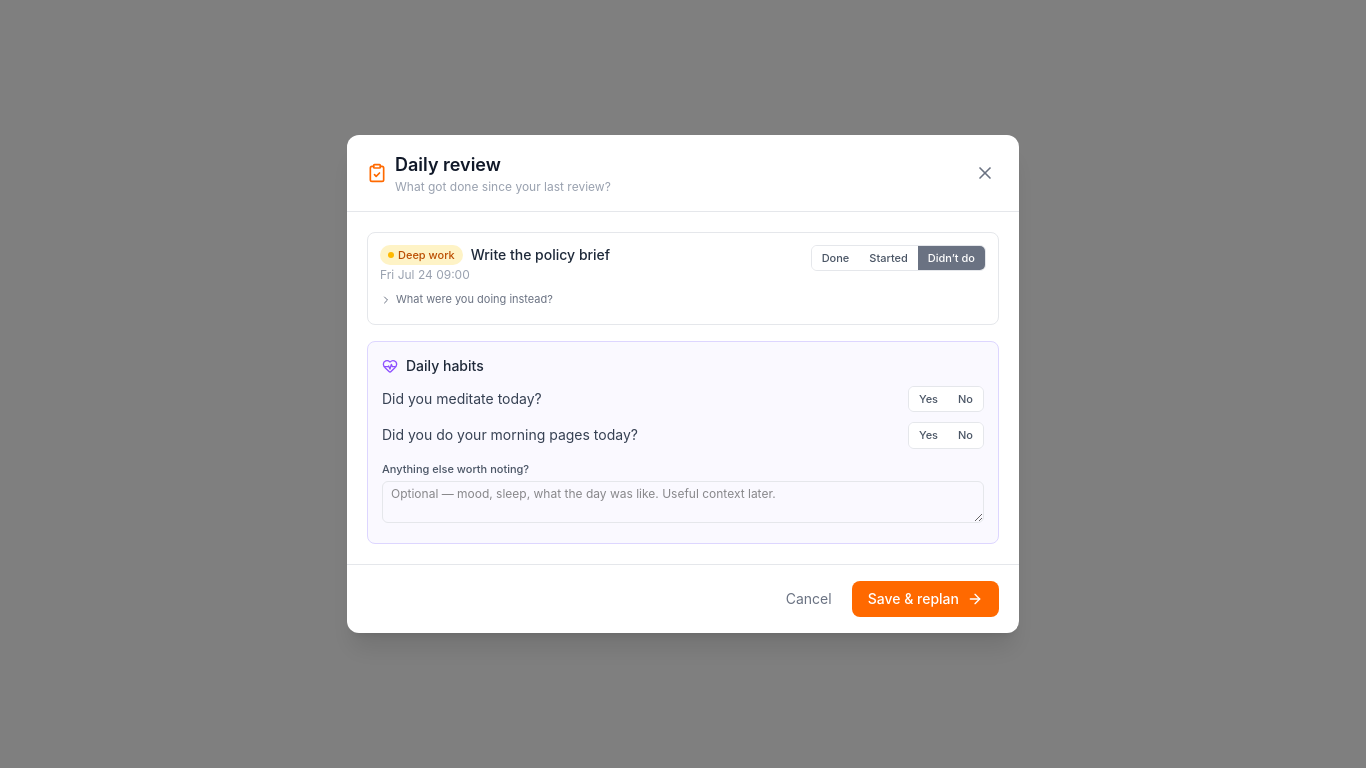
Test: DailyReviewModal — daily habits › blocks the save when a skip has no reason
Step 1. Click the button "No" in the row of "Did you meditate today?" → (966, 399), box [948,387,983,411]
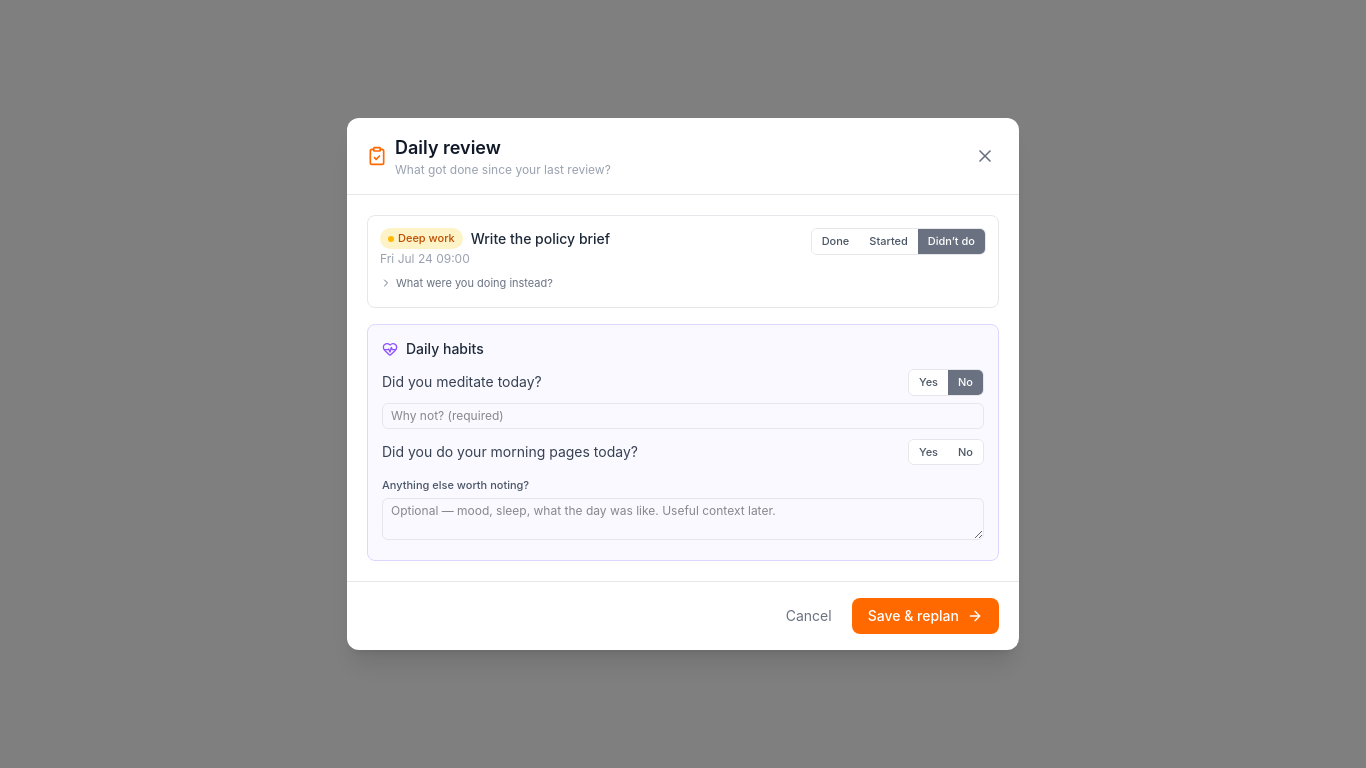
Step 2. Click the button "Save & replan" → (925, 616), box [852,598,999,634]
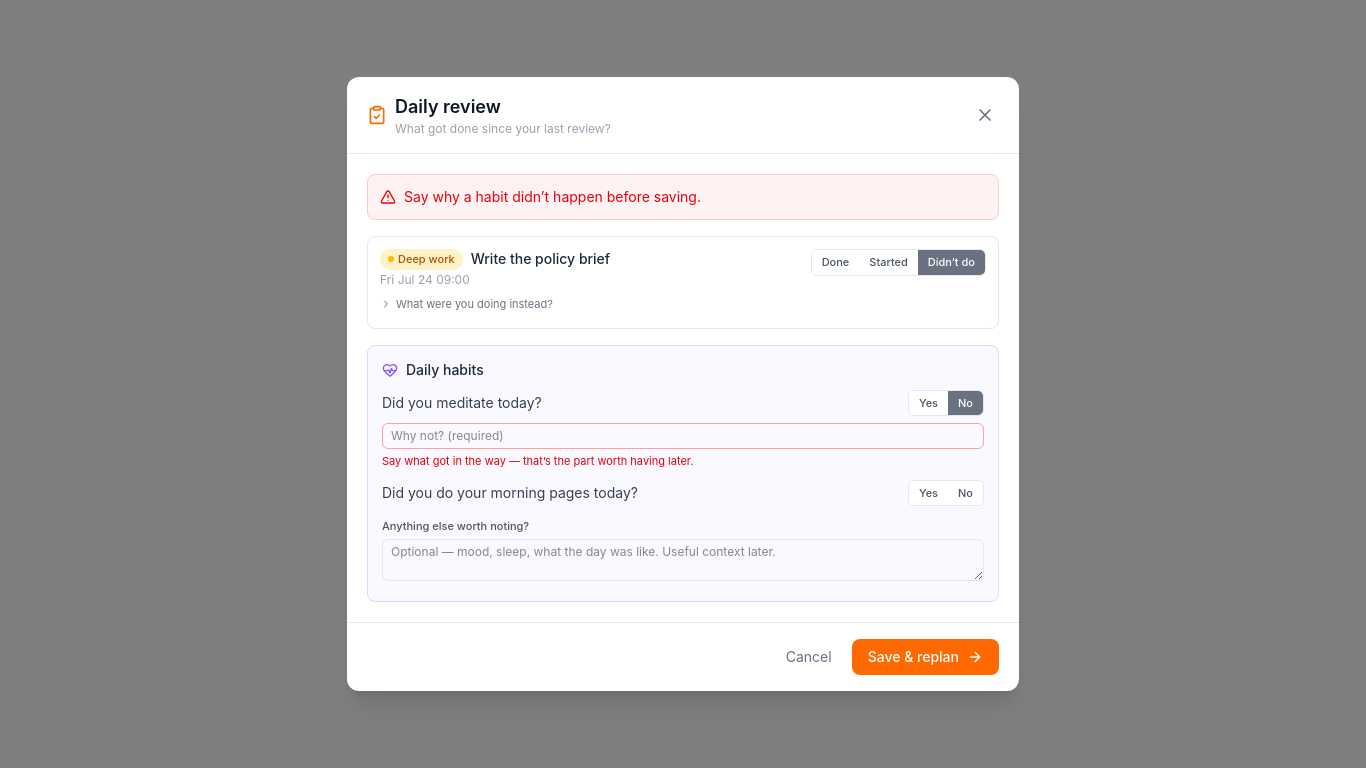
Expected: the text "Say why a habit didn’t happen before saving." is shown, [404,187,701,207]
